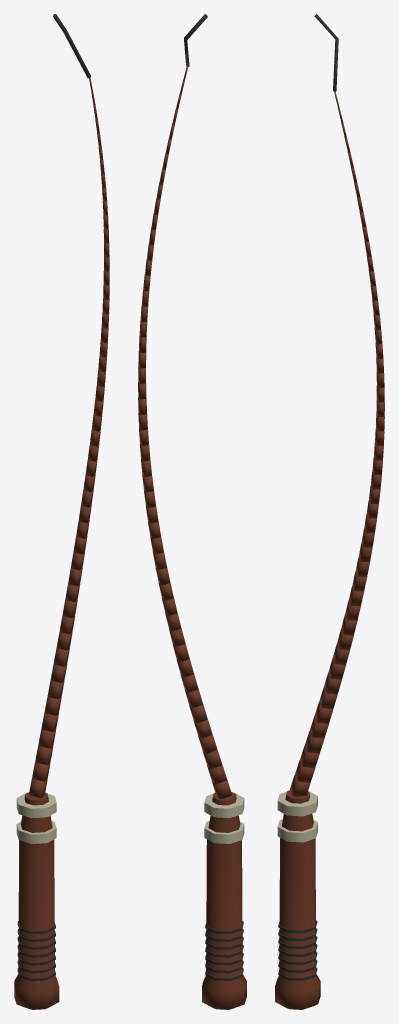
The model's file is whip_lod2.glb.
The picture shows the model from 3 angles, left to right: view 1: azimuth 30°, elevation 25°; view 2: azimuth 150°, elevation 25°; view 3: azimuth 330°, elevation 25°; orthographic projection.
Visible parts, largest first — view 1: whip; view 2: whip; view 3: whip.
Boxes of the visible parts, x1,y1,x2,y2 form: whip: (14, 14, 109, 1009); whip: (138, 14, 246, 1009); whip: (275, 14, 384, 1009).
Size of the model in its own units: 0.1319 by 1.26 by 0.0593.
